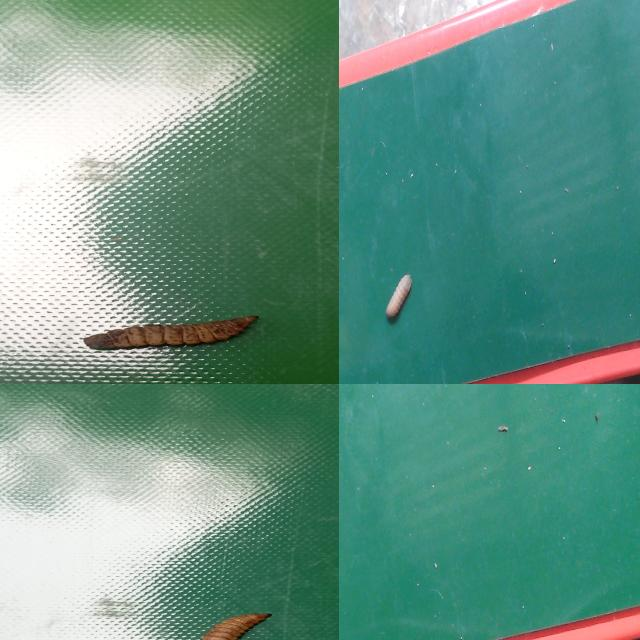Maggot: (83, 317, 260, 353), (199, 614, 270, 640), (384, 276, 413, 324)
